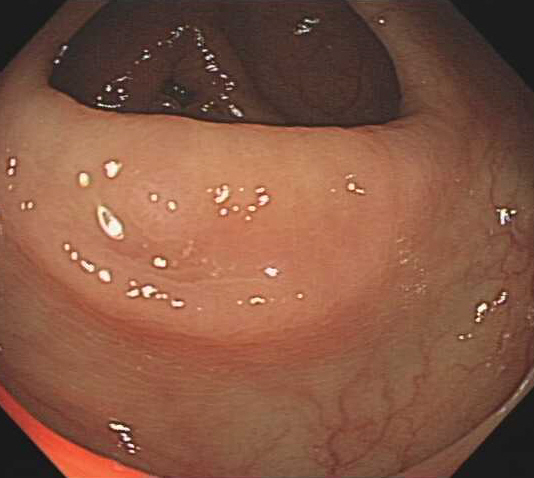others: (124, 165, 217, 246)
